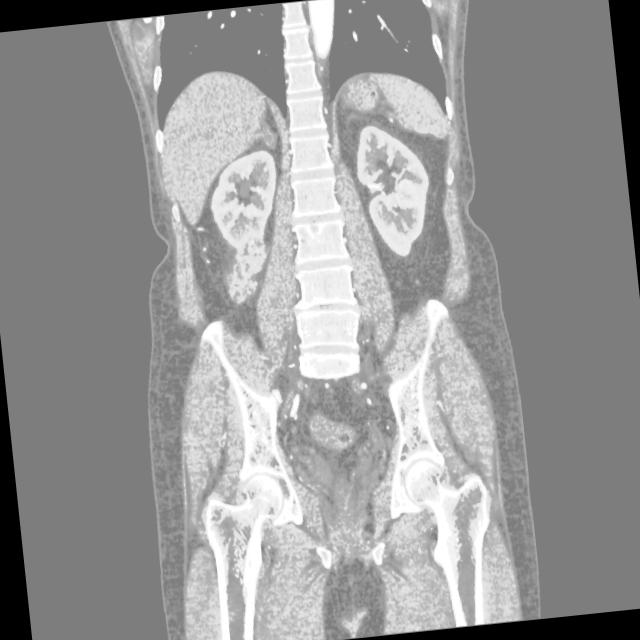TUMOR: (159, 170, 536, 426)
